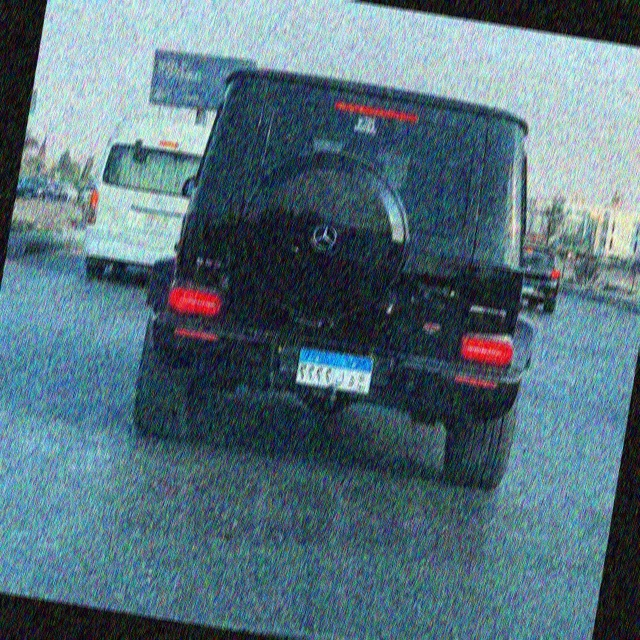License Plate: (294, 345, 373, 391), (141, 211, 172, 232)
